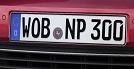0: (113, 19, 124, 41), (102, 19, 112, 41)
3: (89, 18, 101, 40)
B: (41, 17, 51, 38)
N: (65, 17, 75, 39)
O: (31, 17, 41, 38)
P: (76, 18, 87, 40)
W: (22, 16, 31, 38)
